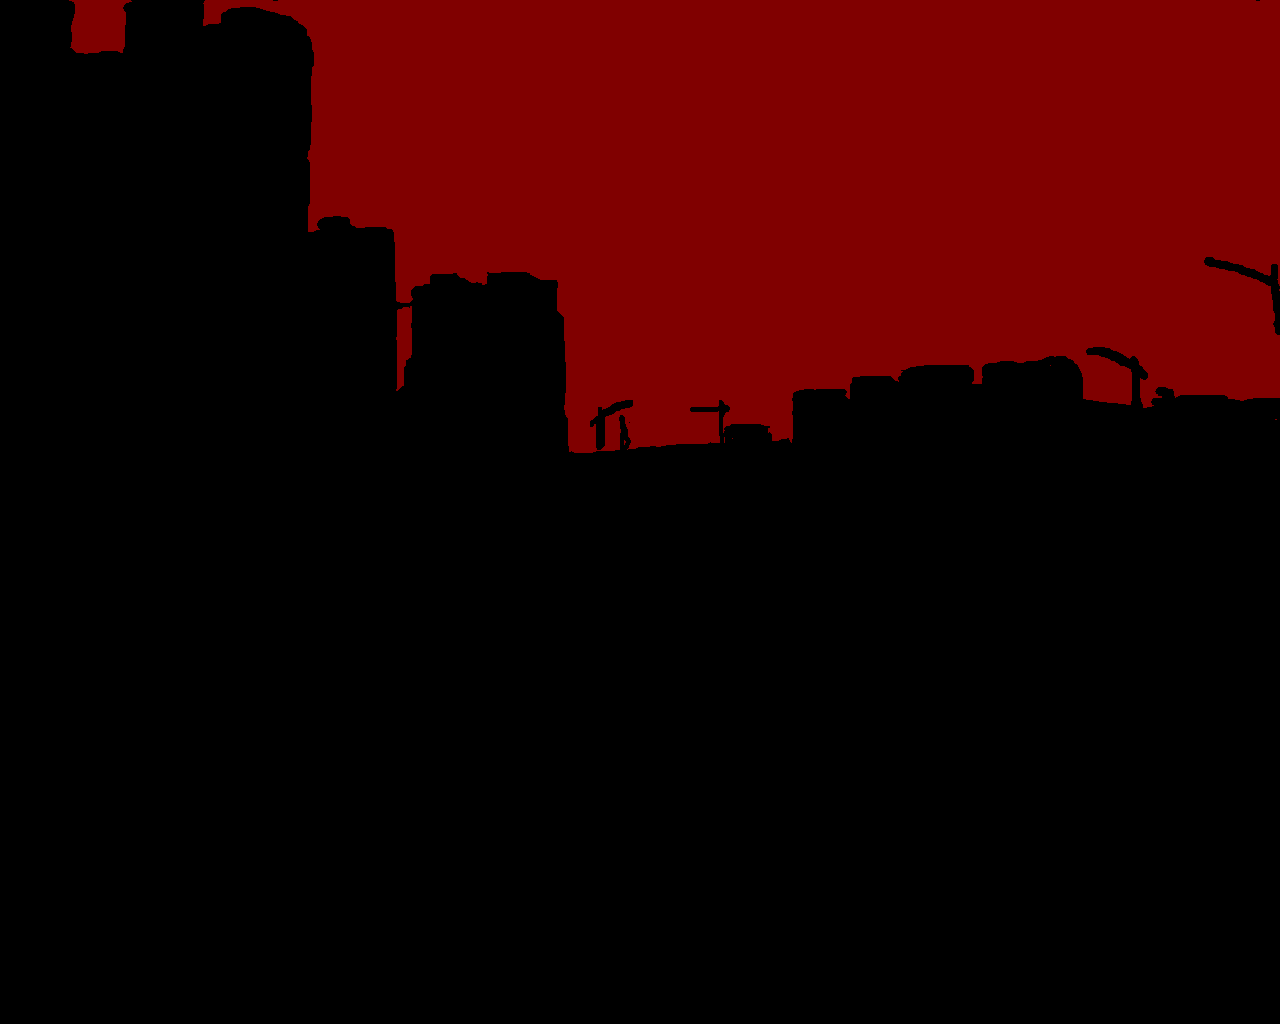Sky: (70, 1, 1279, 453)
